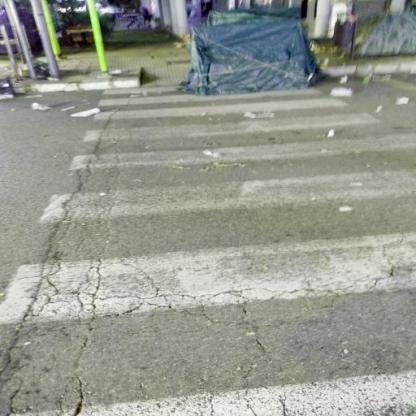crosswalk: (76, 94, 380, 148)
